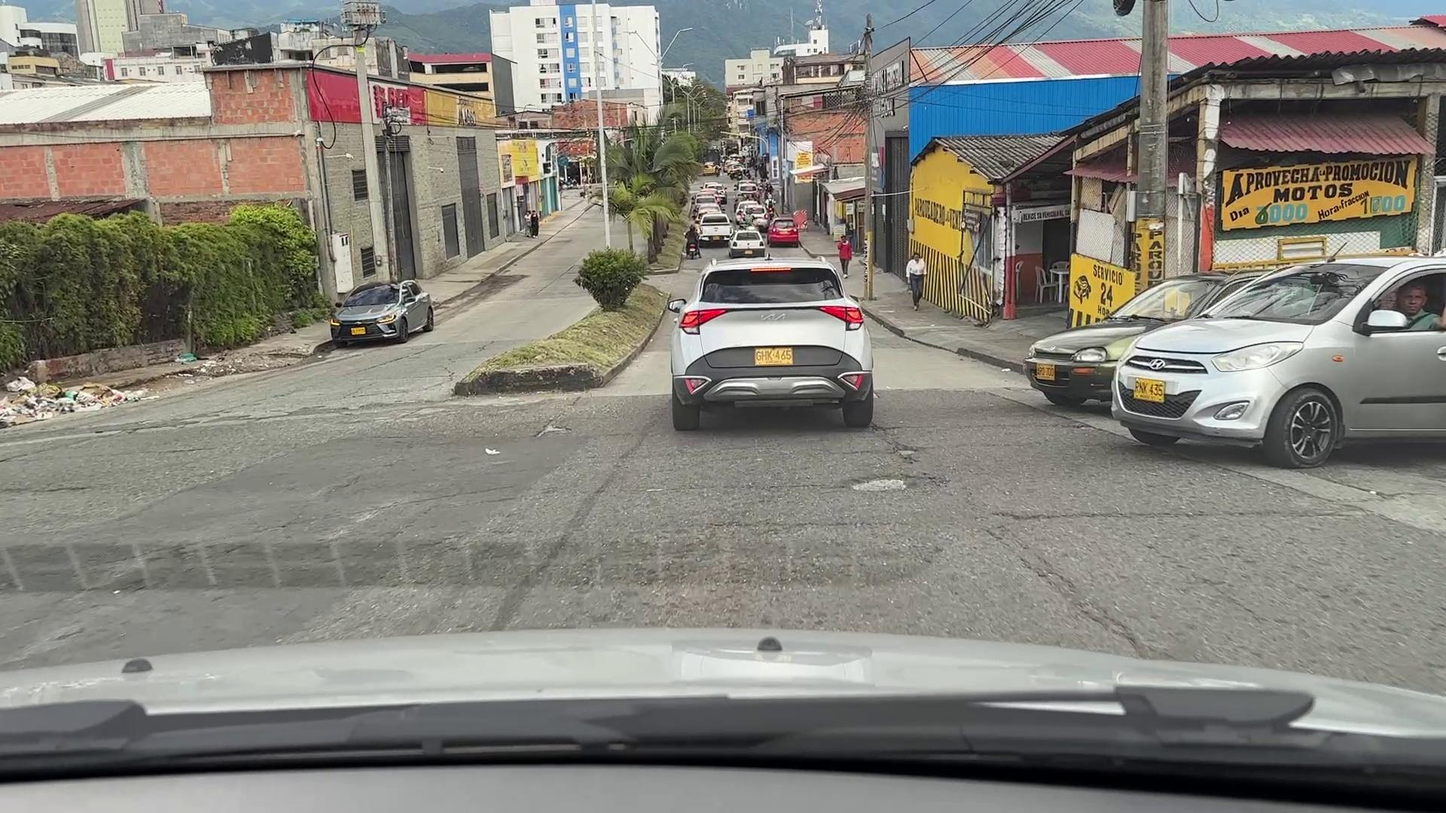bache: (853, 479, 905, 491), (537, 424, 569, 436), (901, 450, 915, 458)
grieta: (1022, 554, 1148, 659)
